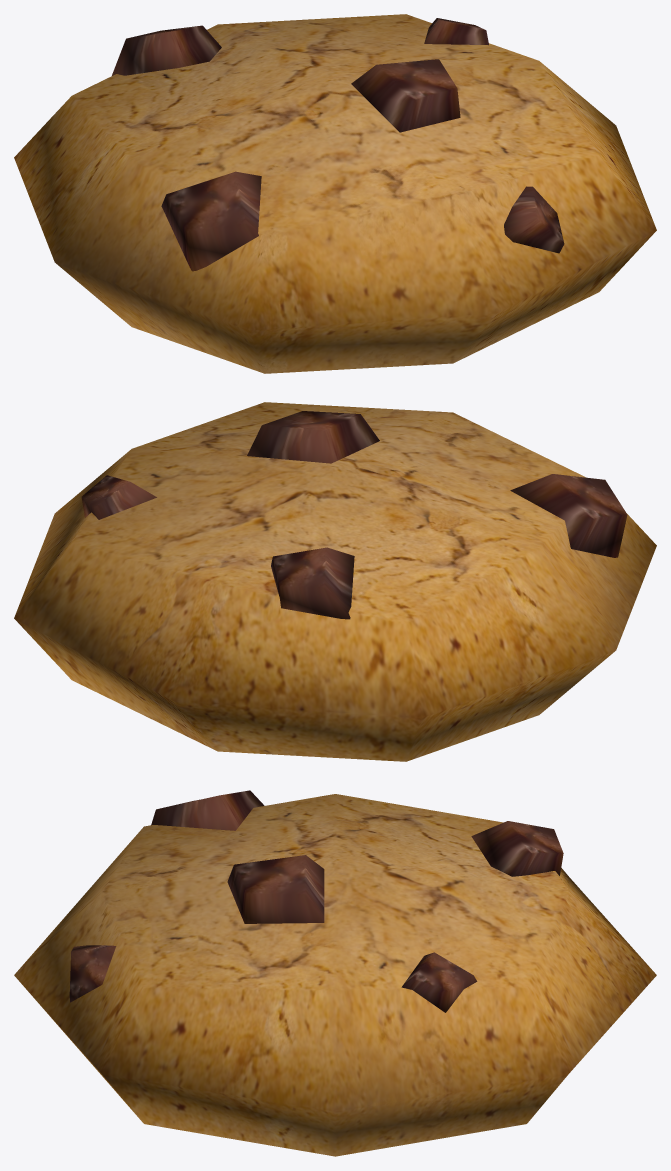
File: Keks.fbx
3 views of the same model, one above another, from view 1: azimuth 30°, elevation 25°; view 2: azimuth 150°, elevation 25°; view 3: azimuth 270°, elevation 25° (orthographic).
Visible parts, largest first — view 1: Keks; view 2: Keks; view 3: Keks.
Part boxes in pixels (x1,y1,x2,y2): Keks: (14, 14, 656, 373); Keks: (14, 402, 656, 761); Keks: (14, 790, 656, 1156).
Size of the model in its own units: 304 by 129 by 304.
